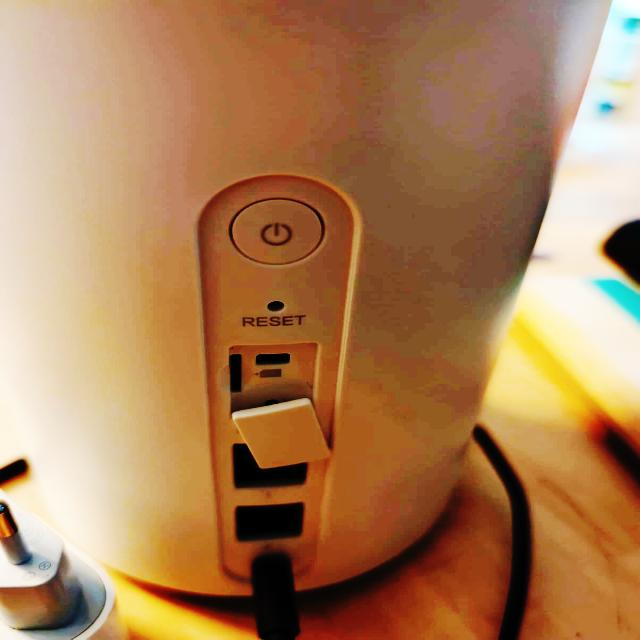lan: (237, 503, 303, 542)
modem: (0, 0, 578, 598)
onbutton: (232, 198, 327, 266)
simopen: (216, 347, 248, 403)
